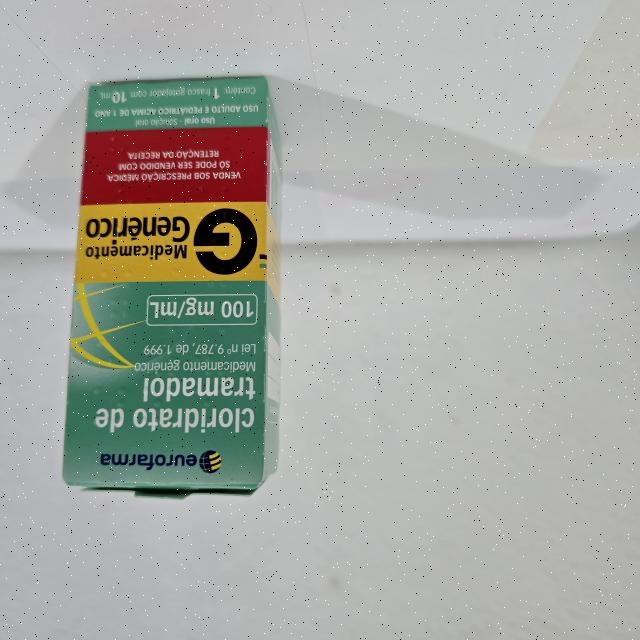tramadol: (59, 70, 288, 506)
